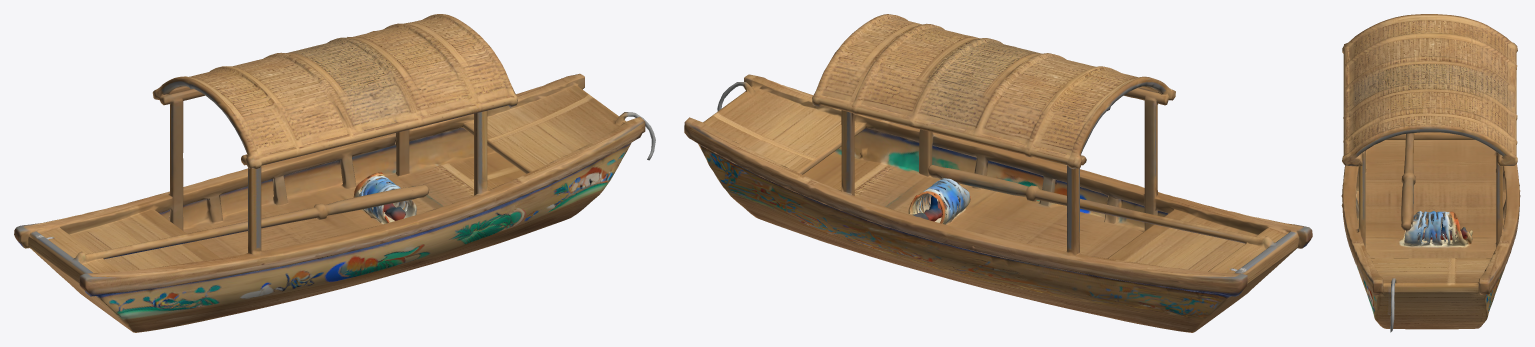
File: ferry_A_h25.glb
3 renders of one model, left to right at view 1: azimuth 30°, elevation 25°; view 2: azimuth 150°, elevation 25°; view 3: azimuth 270°, elevation 25°, orthographic. The views are drawn at different scales.
Parts seen in each view (by area): view 1: tripo_node_689123d2-6a3b-47b2-8d8d-2395d325a6f6; view 2: tripo_node_689123d2-6a3b-47b2-8d8d-2395d325a6f6; view 3: tripo_node_689123d2-6a3b-47b2-8d8d-2395d325a6f6.
Part boxes in pixels (left/top/right/bottom): tripo_node_689123d2-6a3b-47b2-8d8d-2395d325a6f6: left=14, top=14, right=655, bottom=332; tripo_node_689123d2-6a3b-47b2-8d8d-2395d325a6f6: left=684, top=14, right=1312, bottom=332; tripo_node_689123d2-6a3b-47b2-8d8d-2395d325a6f6: left=1341, top=14, right=1520, bottom=332.
Size of the model in its own units: 1 by 0.3396 by 0.3019.
Materials: 1 (1 with a texture image).
